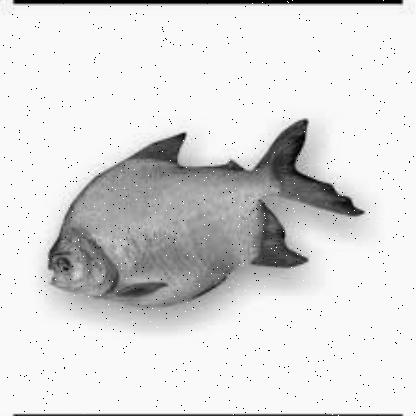ikan-pacu: (48, 109, 332, 311)
